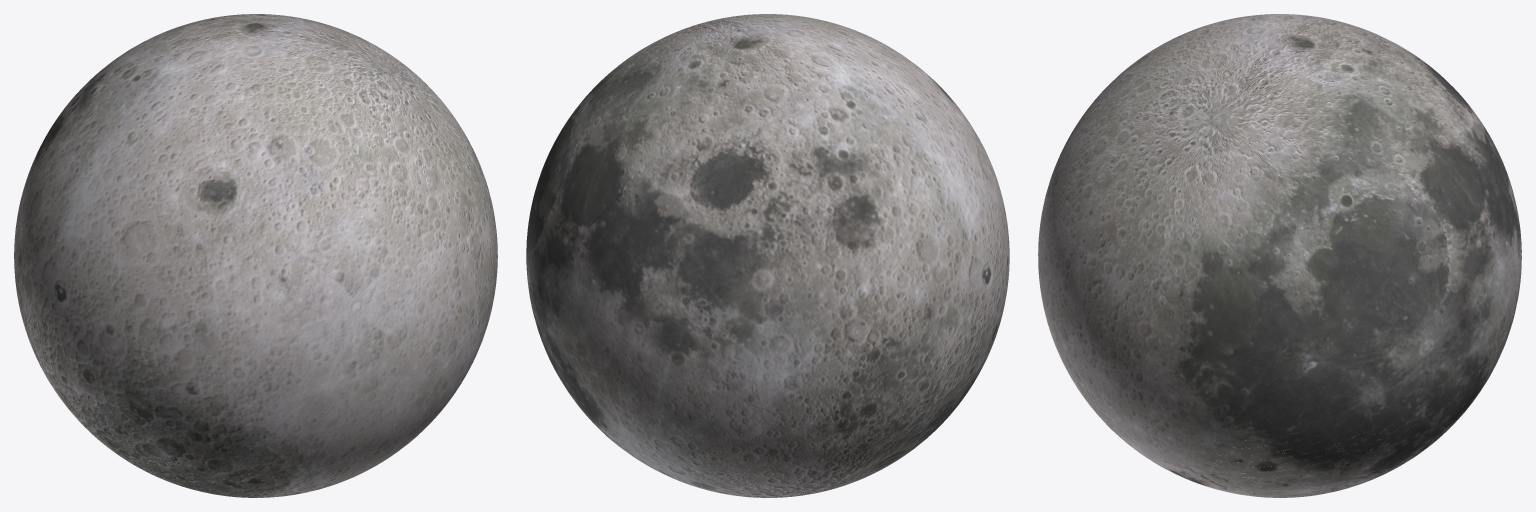
File: moon.glb
3 views of the same model, side by side, from view 1: azimuth 30°, elevation 25°; view 2: azimuth 150°, elevation 25°; view 3: azimuth 270°, elevation 25° (orthographic).
Parts seen in each view (by area): view 1: Sphere; view 2: Sphere; view 3: Sphere.
Boxes of the visible parts, x1,y1,x2,y2 form: Sphere: (14,14,497,497); Sphere: (526,14,1009,497); Sphere: (1038,14,1521,497).
Bounding box in the file's own units: 2 × 2 × 2.
1 material, 1 textured.
